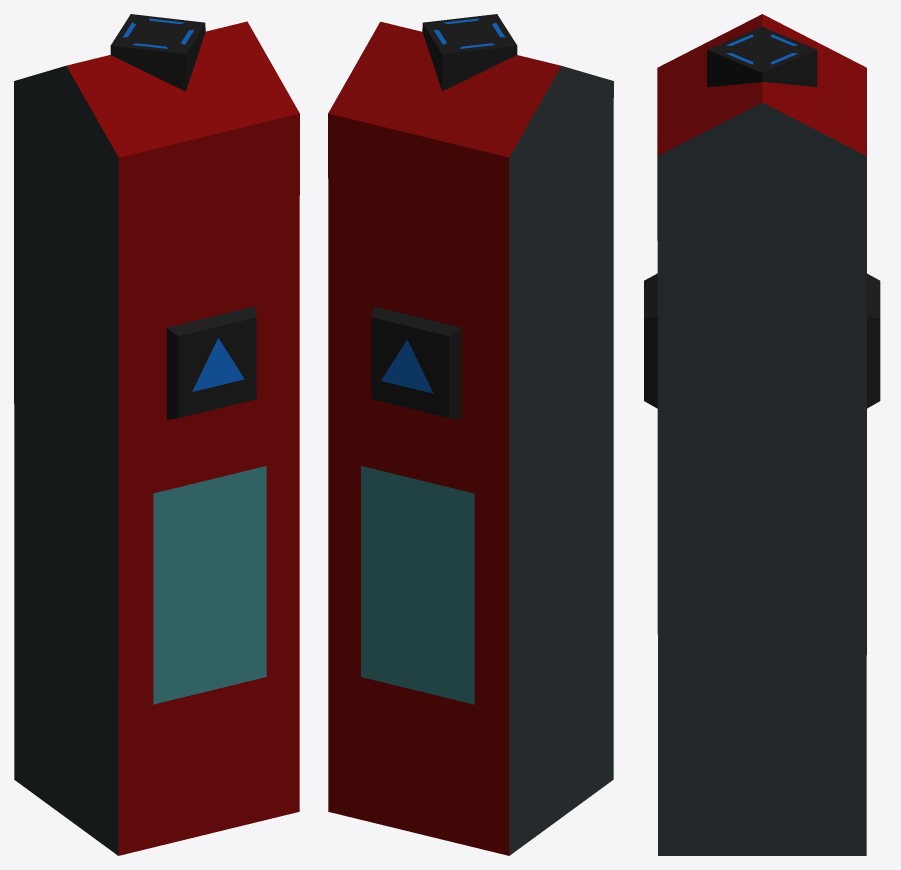
The model's file is W_O_Fireplug_001_L3.fbx.
The picture shows the model from 3 angles, left to right: view 1: azimuth 30°, elevation 25°; view 2: azimuth 150°, elevation 25°; view 3: azimuth 270°, elevation 25°; orthographic projection.
Visible parts, largest first — view 1: W_O_Fireplug_001_L3; view 2: W_O_Fireplug_001_L3; view 3: W_O_Fireplug_001_L3.
Part boxes in pixels (x1=…): W_O_Fireplug_001_L3: x1=14, y1=14, x2=299, y2=855; W_O_Fireplug_001_L3: x1=328, y1=14, x2=613, y2=855; W_O_Fireplug_001_L3: x1=644, y1=14, x2=880, y2=855.
Size of the model in its own units: 0.156 by 0.6268 by 0.1823.
